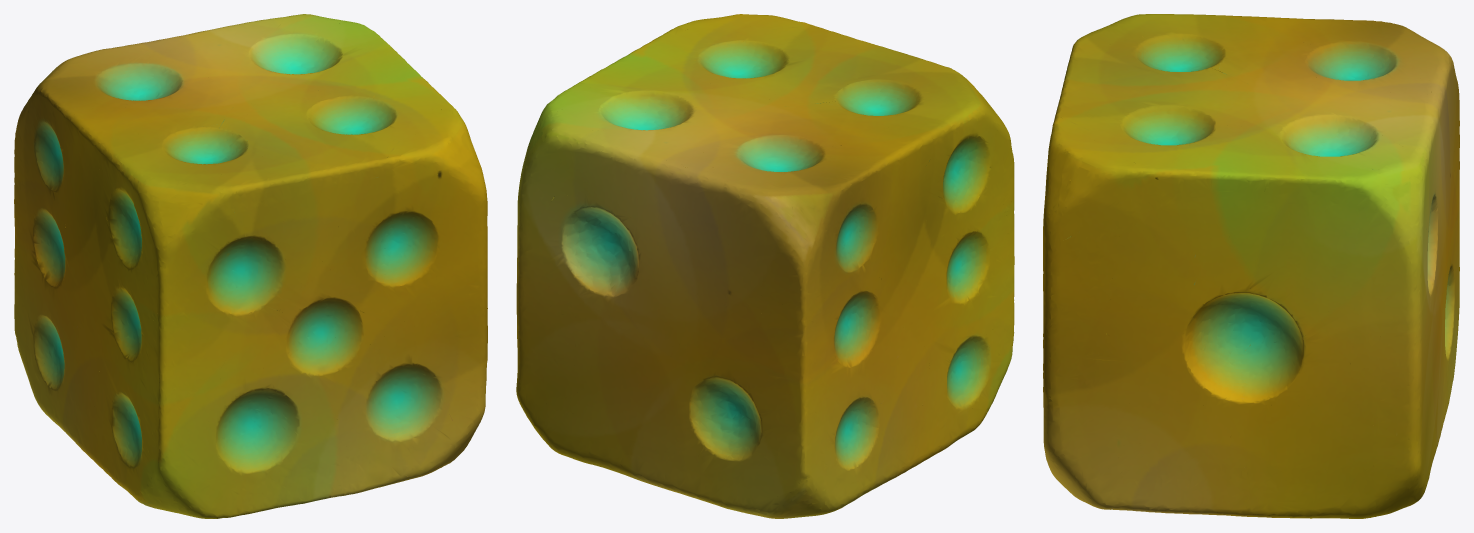
Rendered from 6 edges.fbx.
3 views of the same model, side by side, from view 1: azimuth 30°, elevation 25°; view 2: azimuth 150°, elevation 25°; view 3: azimuth 270°, elevation 25° (orthographic). The views are drawn at different scales.
Visible parts, largest first — view 1: Layer_1; view 2: Layer_1; view 3: Layer_1.
Part boxes in pixels (bbox=[...]): Layer_1: bbox=[14, 14, 487, 518]; Layer_1: bbox=[516, 14, 1014, 518]; Layer_1: bbox=[1043, 14, 1459, 518].
Bounding box in the file's own units: 3.33 × 3.33 × 3.05.
